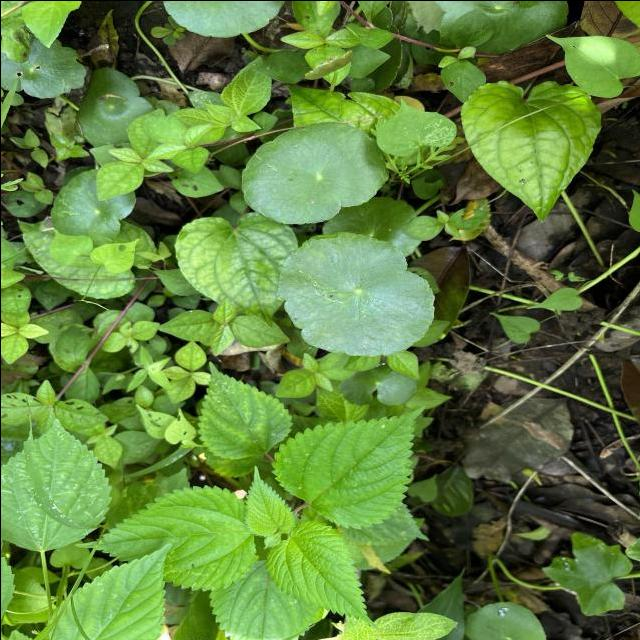Bacopa monnieri: (275, 229, 437, 358), (238, 119, 389, 226)
